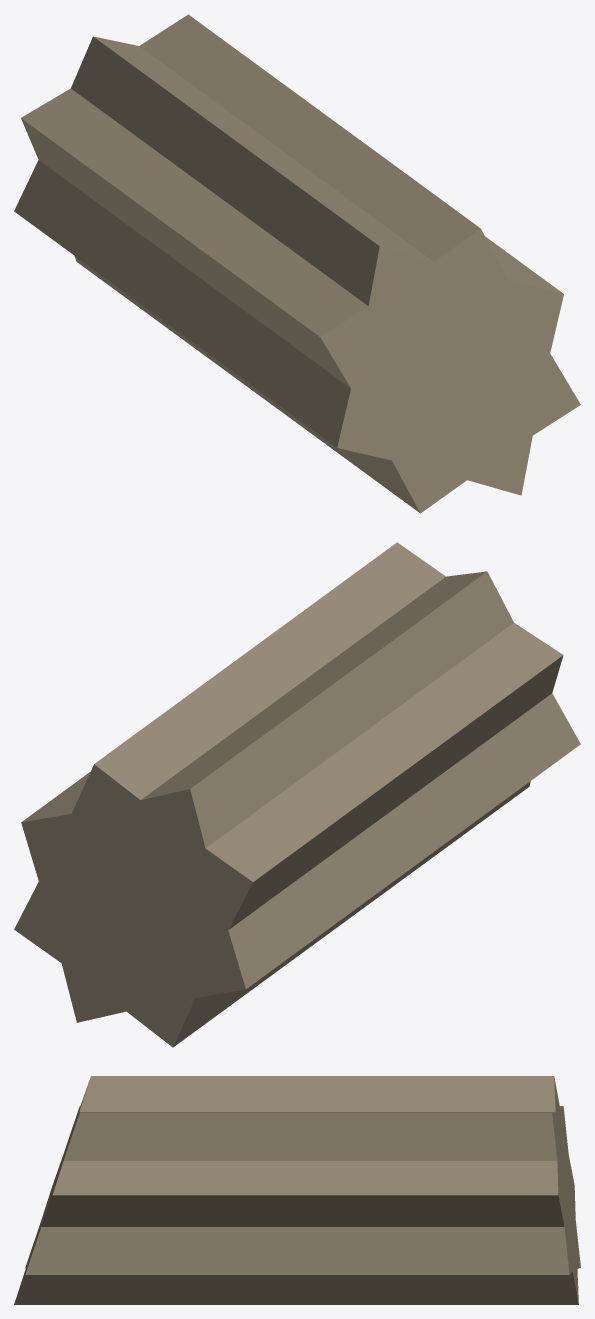
The model's file is Pillar_2.fbx.
3 views of the same model, one above another, from view 1: azimuth 30°, elevation 25°; view 2: azimuth 150°, elevation 25°; view 3: azimuth 270°, elevation 25° (orthographic). The views are drawn at different scales.
Visible parts, largest first — view 1: Circle.003; view 2: Circle.003; view 3: Circle.003.
Boxes of the visible parts, box(x1,y1,x2,y2) form: Circle.003: box(14, 14, 580, 513); Circle.003: box(14, 542, 580, 1047); Circle.003: box(14, 1076, 580, 1304).
Bounding box in the file's own units: 75.07 × 75.07 × 201.
